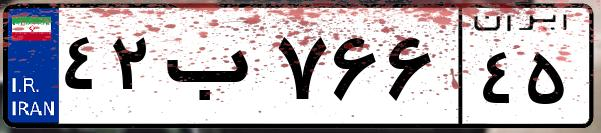2: (110, 28, 158, 98)
4: (57, 26, 110, 100), (475, 38, 525, 113)
5: (525, 38, 570, 115)
6: (385, 28, 445, 110), (330, 28, 385, 110)
7: (270, 28, 330, 110)
ب: (158, 20, 270, 120)
